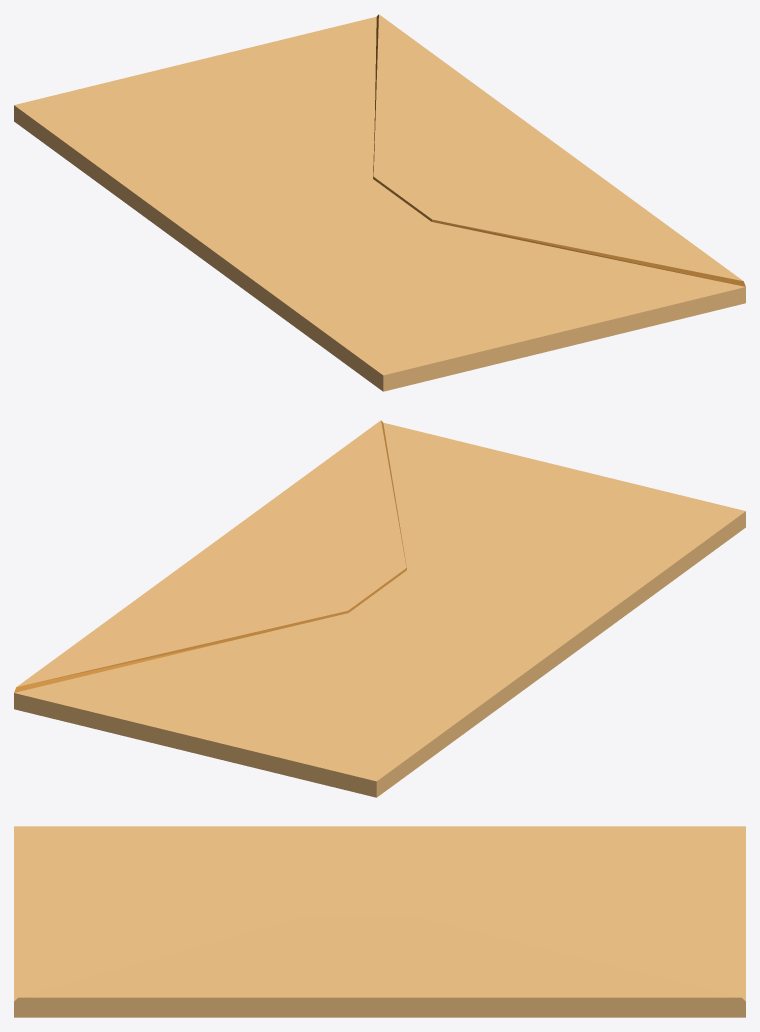
File: envelope.fbx
3 views of the same model, one above another, from view 1: azimuth 30°, elevation 25°; view 2: azimuth 150°, elevation 25°; view 3: azimuth 270°, elevation 25° (orthographic).
Visible parts, largest first — view 1: model; view 2: model; view 3: model.
Part boxes in pixels (box(x1,y1,x2,y2)): model: box(14, 14, 745, 391); model: box(14, 420, 745, 797); model: box(14, 826, 745, 1017).
Bounding box in the file's own units: 1.64 × 0.93 × 0.05.
